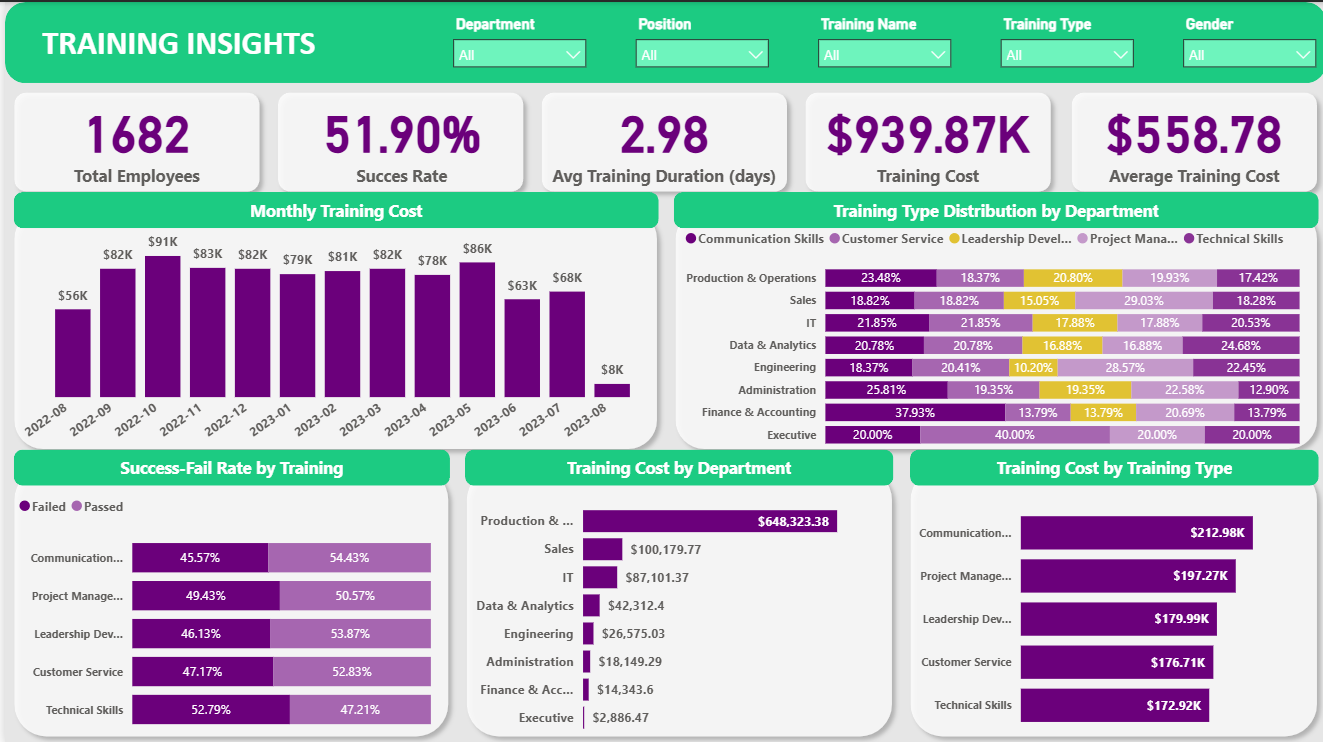

The page's visual inventory and layout, read from the dashboard file:
{"tool":"powerbi","page":{"name":"Training","canvas":[1280,720],"ordinal":4},"visuals":[{"type":"shape","box":[867.9,441.8,411.6,278.4],"z":0},{"type":"shape","box":[438.2,441.8,429.7,278.4],"z":1000},{"type":"shape","box":[0,441.8,438.2,278.4],"z":2000},{"type":"shape","box":[640.4,192.5,639.1,249.4],"z":3000},{"type":"shape","box":[0,192.5,640.4,249.4],"z":4000},{"type":"hundredPercentStackedBarChart","fields":{"Category":["silver TrainingandDevelopment.training_name"],"Y":["Count(silver TrainingandDevelopment.employee_id)"],"Series":["silver TrainingandDevelopment.outcome"]},"box":[8.5,468.2,409.1,251.8],"z":5000},{"type":"clusteredBarChart","fields":{"Y":["Sum(silver TrainingandDevelopment.cost)"],"Category":["silver Employees.department"]},"box":[437,468.5,439.4,251.8],"z":6000},{"type":"clusteredColumnChart","fields":{"Category":["silver TrainingandDevelopment.TrainingYearMonth"],"Y":["Sum(silver TrainingandDevelopment.cost)"]},"box":[13.3,209.4,614.9,232.4],"z":7000},{"type":"shape","box":[0,78.7,255.4,113.8],"z":9000},{"type":"card","fields":{"Values":["Count(silver TrainingandDevelopment.employee_id)"]},"box":[8.5,87.2,238.5,96.8],"z":10000},{"type":"shape","box":[255.4,78.7,255.4,113.8],"z":11000},{"type":"shape","box":[510.8,78.7,255.4,113.8],"z":12000},{"type":"shape","box":[766.2,78.7,255.4,113.8],"z":13000},{"type":"shape","box":[1024.1,78.7,255.4,113.8],"z":14000},{"type":"card","fields":{"Values":["_Measures.Succes %"]},"box":[265.1,87.2,238.5,96.8],"z":15000},{"type":"card","fields":{"Values":["Avg(silver TrainingandDevelopment.duration_days)"]},"box":[519.3,87.2,238.5,96.8],"z":16000},{"type":"card","fields":{"Values":["_Measures.Training Cost"]},"box":[774.7,87.2,238.5,96.8],"z":17000},{"type":"card","fields":{"Values":["Avg(silver TrainingandDevelopment.cost)"]},"box":[1032.6,87.2,238.5,96.8],"z":18000},{"type":"barChart","fields":{"Category":["silver TrainingandDevelopment.training_name"],"Y":["Sum(silver TrainingandDevelopment.cost)"]},"box":[867.9,468.5,411.6,251.8],"z":19000},{"type":"hundredPercentStackedBarChart","fields":{"Y":["Count(silver TrainingandDevelopment.employee_id)"],"Category":["silver Employees.department"],"Series":["silver TrainingandDevelopment.training_name"]},"box":[653.7,209.4,605.2,232.4],"z":20000},{"type":"shape","box":[8.5,184,624.6,35.1],"z":22000},{"type":"shape","box":[0,0,1279.5,78.7],"z":25001},{"type":"slicer","fields":{"Values":["silver Employees.department"]},"box":[423.2,7.3,148.9,65.4],"z":25002},{"type":"slicer","fields":{"Values":["silver Employees.title"]},"box":[600,7.3,148.9,65.4],"z":25003},{"type":"slicer","fields":{"Values":["silver TrainingandDevelopment.training_name"]},"box":[776.9,7.3,148.9,65.4],"z":25004},{"type":"slicer","fields":{"Values":["silver TrainingandDevelopment.training_type"]},"box":[953.8,7.3,148.9,65.4],"z":25005},{"type":"slicer","fields":{"Values":["silver Employees.gender"]},"box":[1130.6,7.3,148.9,65.4],"z":25006},{"type":"shape","box":[445.5,433.4,415,35.1],"z":25007},{"type":"shape","box":[8.5,433.4,422.5,35.1],"z":25008},{"type":"shape","box":[876.4,433.4,395.8,35.1],"z":25009},{"type":"shape","box":[647.6,184,624.6,35.1],"z":25010}]}

Visuals, with their boxes in screenshot pixels (x1, y1, x2, y2), scaled from the page's 1280x720 canvas onto the 1323x742 screenshot:
shape: 897 455 1322 741
shape: 453 455 897 741
shape: 0 455 453 741
shape: 662 198 1322 455
shape: 0 198 662 455
hundredPercentStackedBarChart - silver TrainingandDevelopment.training_name x Count(silver TrainingandDevelopment.employee_id): 9 483 432 741
clusteredBarChart - Sum(silver TrainingandDevelopment.cost) x silver Employees.department: 452 483 906 741
clusteredColumnChart - silver TrainingandDevelopment.TrainingYearMonth x Sum(silver TrainingandDevelopment.cost): 14 216 649 455
shape: 0 81 264 198
card - Count(silver TrainingandDevelopment.employee_id): 9 90 255 190
shape: 264 81 528 198
shape: 528 81 792 198
shape: 792 81 1056 198
shape: 1059 81 1322 198
card - _Measures.Succes %: 274 90 521 190
card - Avg(silver TrainingandDevelopment.duration_days): 537 90 783 190
card - _Measures.Training Cost: 801 90 1047 190
card - Avg(silver TrainingandDevelopment.cost): 1067 90 1314 190
barChart - silver TrainingandDevelopment.training_name x Sum(silver TrainingandDevelopment.cost): 897 483 1322 741
hundredPercentStackedBarChart - Count(silver TrainingandDevelopment.employee_id) x silver Employees.department: 676 216 1301 455
shape: 9 190 654 226
shape: 0 0 1322 81
slicer - silver Employees.department: 437 8 591 75
slicer - silver Employees.title: 620 8 774 75
slicer - silver TrainingandDevelopment.training_name: 803 8 957 75
slicer - silver TrainingandDevelopment.training_type: 986 8 1140 75
slicer - silver Employees.gender: 1169 8 1322 75
shape: 460 447 889 483
shape: 9 447 445 483
shape: 906 447 1315 483
shape: 669 190 1315 226
